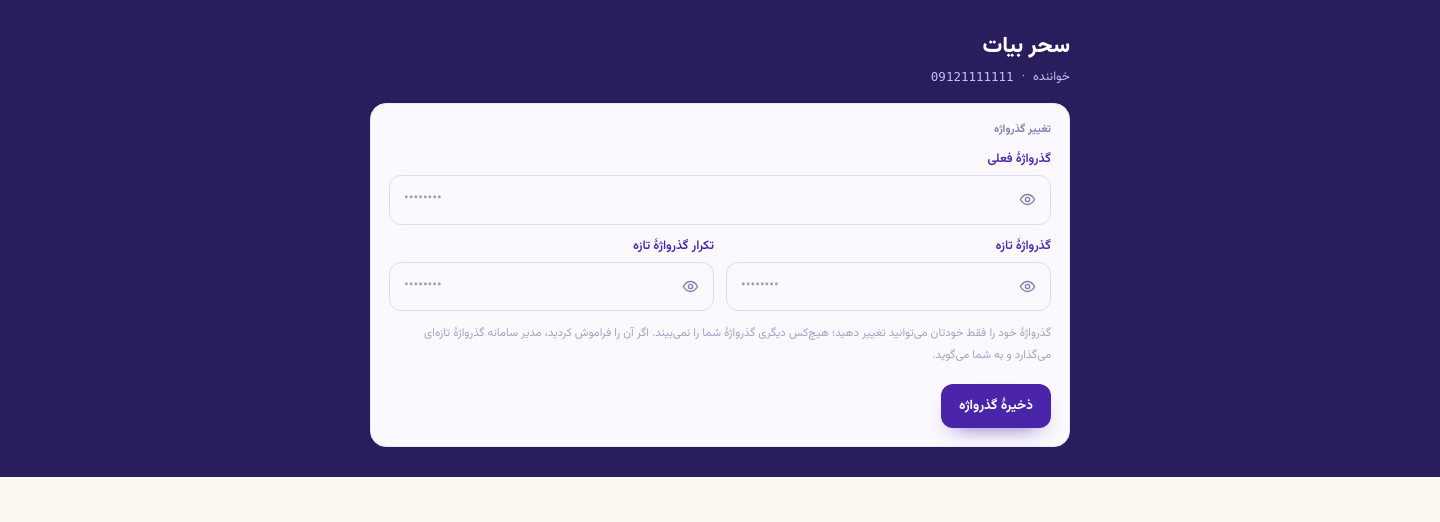
Test case: changing your own password › sends nothing when the repeat does not match the new password
Type "oldpass-aaa" into the password field labelled "گذرواژهٔ فعلی".
click(720, 200); type("oldpass-aaa")  # box [389, 175, 1051, 225]
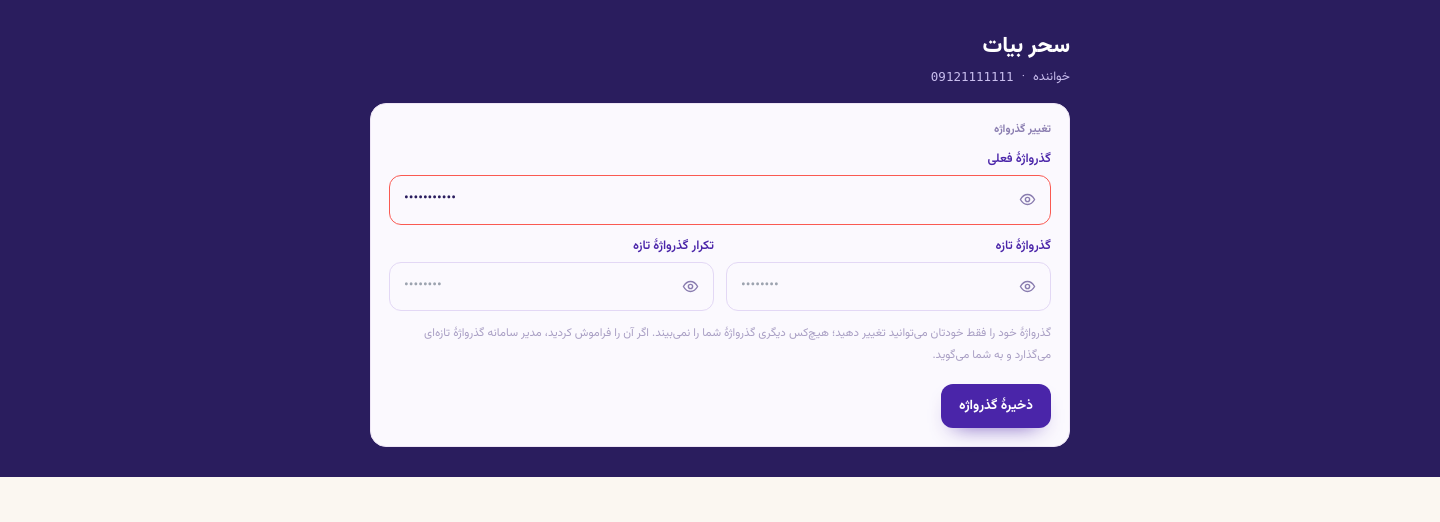
Type "newpass-zzz" into the password field labelled "گذرواژهٔ تازه".
click(888, 286); type("newpass-zzz")  # box [726, 262, 1051, 311]
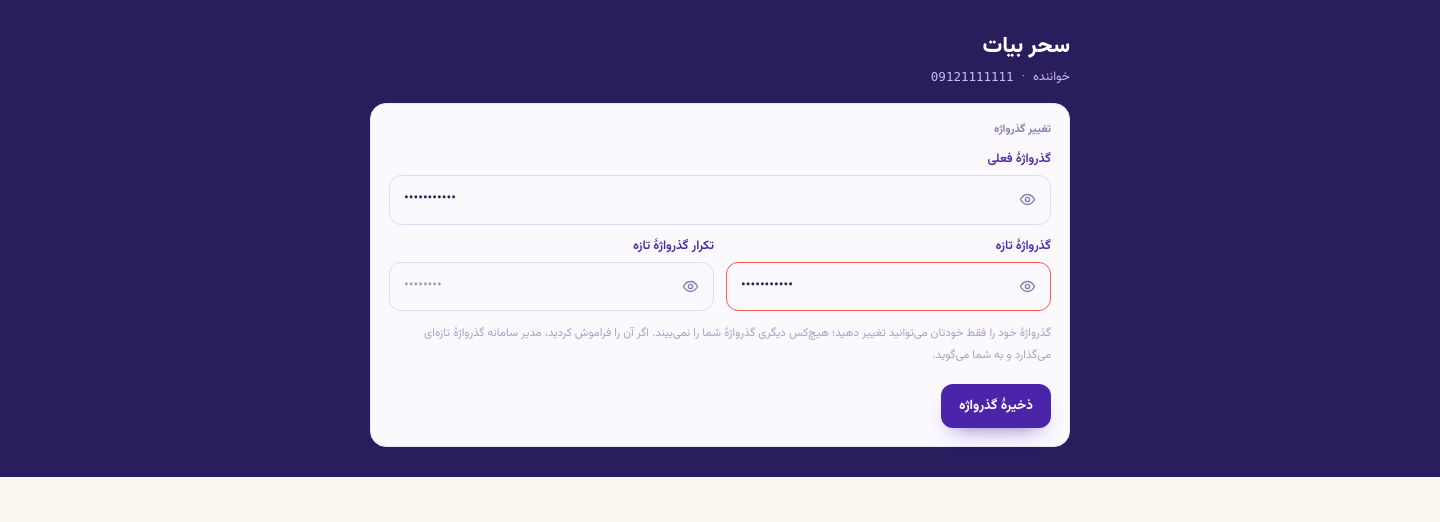
Type "newpass-zzy" into the password field labelled "تکرار گذرواژهٔ تازه".
click(552, 286); type("newpass-zzy")  # box [389, 262, 714, 311]
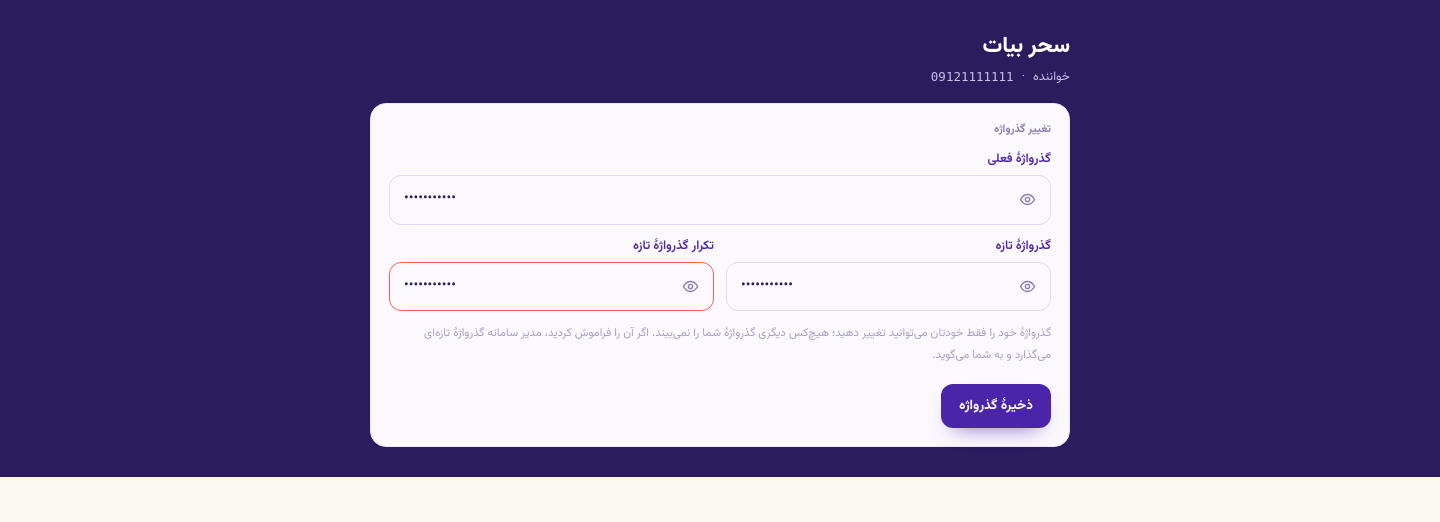
Click the button "ذخیرهٔ گذرواژه".
click(996, 406)  # box [941, 384, 1051, 428]
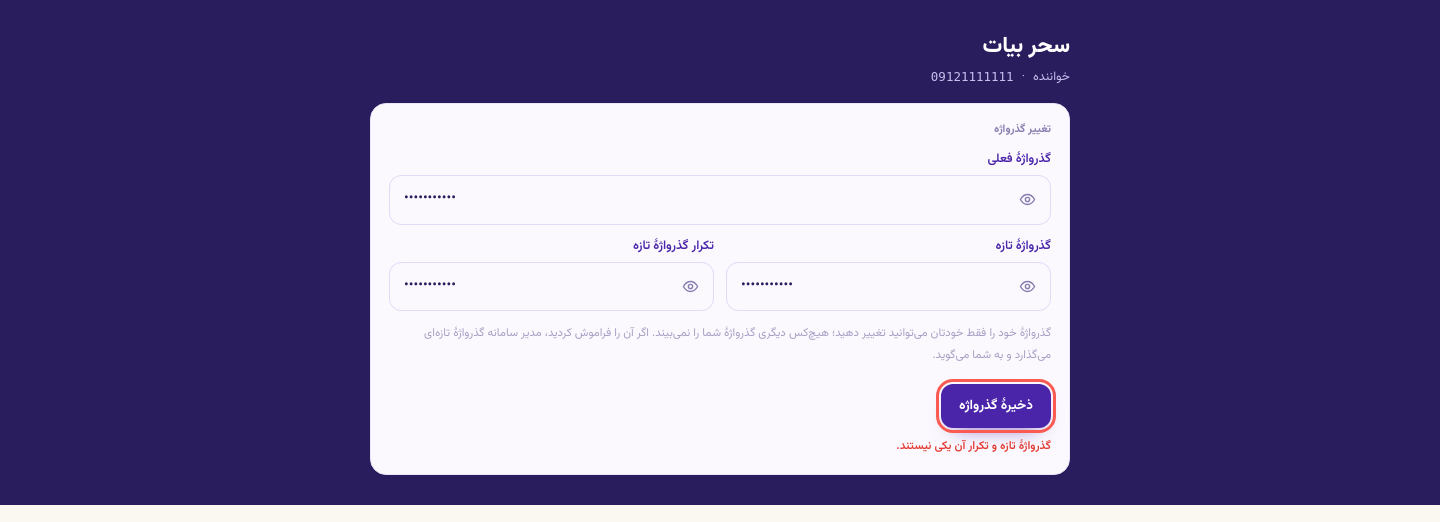
Check: the message shows "گذرواژهٔ تازه و تکرار آن یکی نیستند", box [896, 437, 1051, 455]
